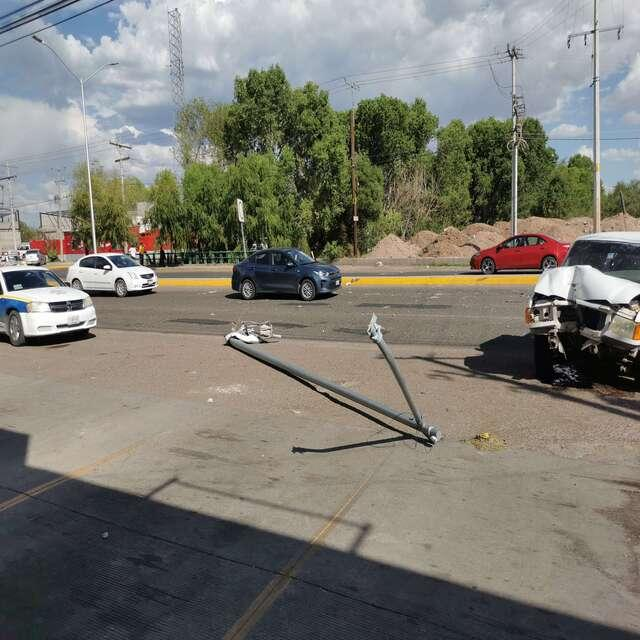Inclined Pole: (210, 313, 460, 467)
